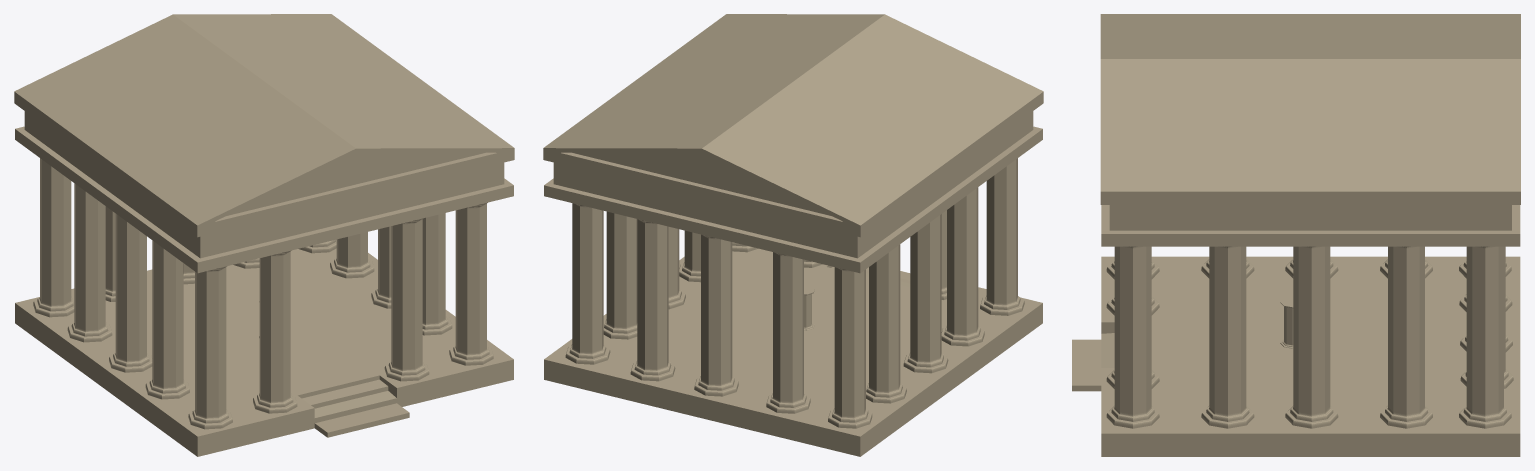
File: Monument.fbx
The picture shows the model from 3 angles, left to right: view 1: azimuth 30°, elevation 25°; view 2: azimuth 150°, elevation 25°; view 3: azimuth 270°, elevation 25°; orthographic projection. The views are drawn at different scales.
Parts seen in each view (by area): view 1: Monument; view 2: Monument; view 3: Monument.
Part boxes in pixels (left/top/right/bottom): Monument: left=14, top=14, right=514, bottom=456; Monument: left=543, top=14, right=1043, bottom=456; Monument: left=1072, top=14, right=1520, bottom=456.
Bounding box in the file's own units: 679 × 635 × 516.
